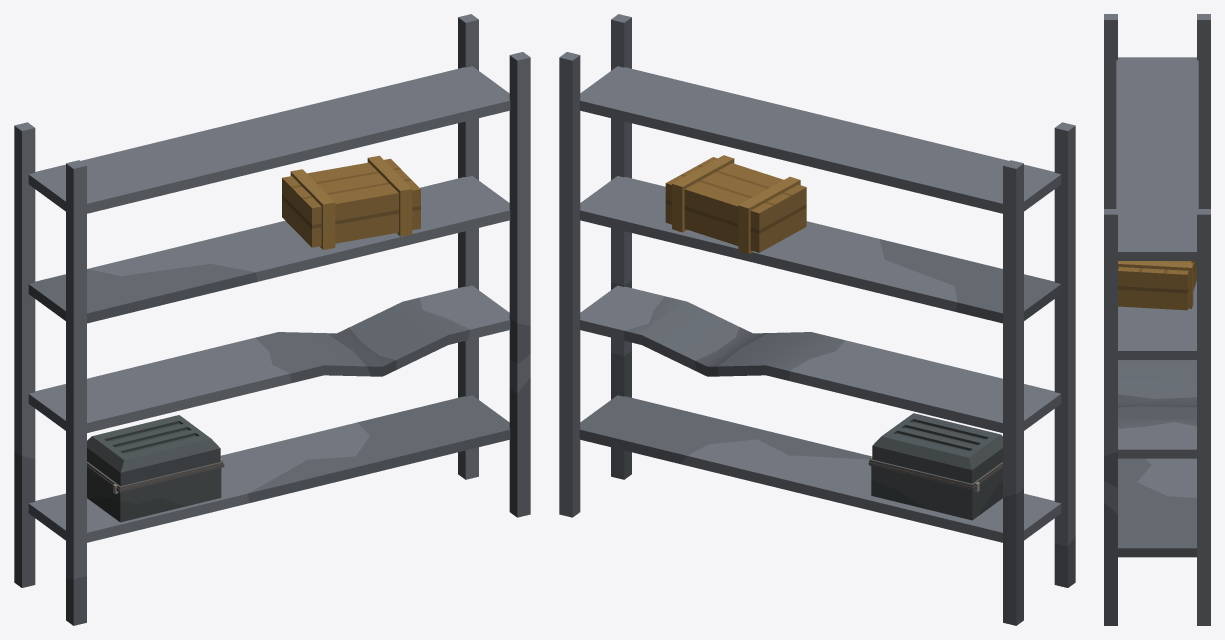
Rendered from AI_Prop_Shelf_01.fbx.
3 renders of one model, left to right at view 1: azimuth 30°, elevation 25°; view 2: azimuth 150°, elevation 25°; view 3: azimuth 270°, elevation 25°, orthographic. The views are drawn at different scales.
Visible parts, largest first — view 1: AI_Prop_Shelf_01; view 2: AI_Prop_Shelf_01; view 3: AI_Prop_Shelf_01.
Boxes of the visible parts, x1=… form: AI_Prop_Shelf_01: x1=14, y1=14, x2=530, y2=625; AI_Prop_Shelf_01: x1=559, y1=14, x2=1075, y2=625; AI_Prop_Shelf_01: x1=1104, y1=14, x2=1210, y2=625.
Size of the model in its own units: 3.27 by 3.12 by 0.7362.
